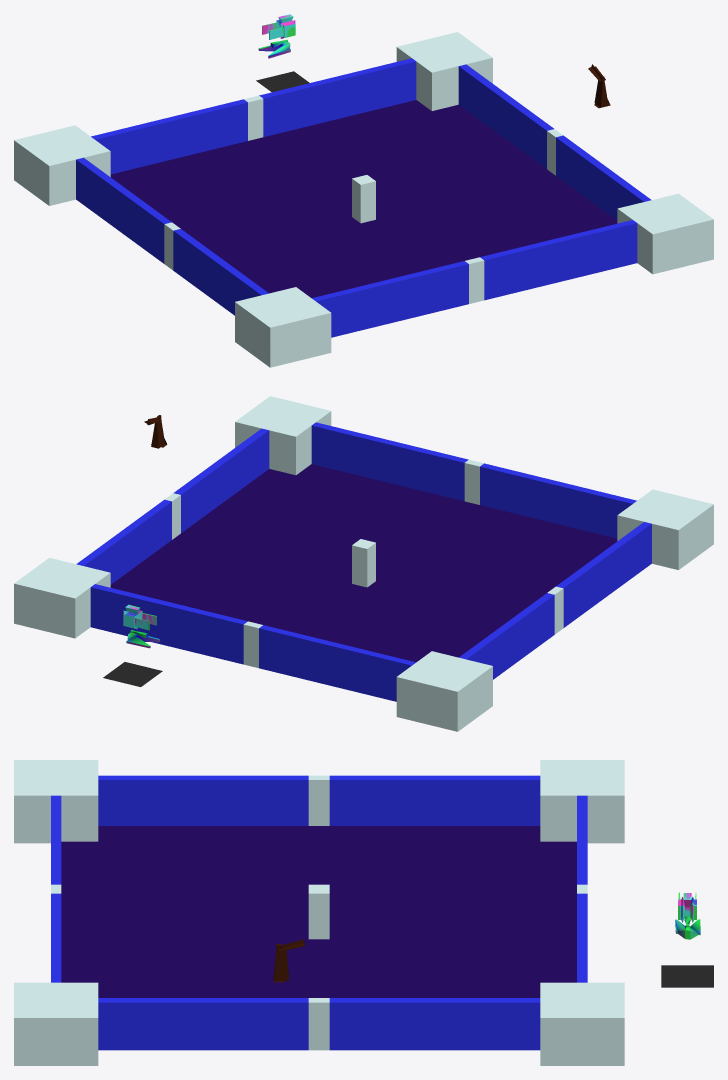
Rendered from world.gltf.
3 renders of one model, top to bottom at view 1: azimuth 30°, elevation 25°; view 2: azimuth 150°, elevation 25°; view 3: azimuth 270°, elevation 25°, orthographic. The views are drawn at different scales.
Parts seen in each view (by area): view 1: Floor, Wall01, Wall04, Wall02, Wall03, CornerPillar02, CornerPillar01, CornerPillar03, CornerPillar04, Wall07, Wall06, Wall08 (+6 smaller); view 2: Floor, Wall01, Wall03, Wall04, Wall02, CornerPillar03, CornerPillar04, CornerPillar02, CornerPillar01, Wall08, Wall05, Wall07 (+6 smaller); view 3: Floor, Wall06, Wall05, Wall07, Wall08, CornerPillar04, CornerPillar01, CornerPillar03, CornerPillar02, CenterPillar, Road, MiddlePillar02 (+6 smaller).
Part boxes in pixels (x1=…): Floor: x1=110, y1=100, x2=617, y2=298; Wall01: x1=480, y1=220, x2=637, y2=300; Wall04: x1=259, y1=58, x2=416, y2=136; Wall02: x1=312, y1=261, x2=468, y2=337; Wall03: x1=91, y1=99, x2=247, y2=174; CornerPillar02: x1=235, y1=287, x2=331, y2=367; CornerPillar01: x1=617, y1=193, x2=713, y2=274; CornerPillar03: x1=14, y1=125, x2=110, y2=205; CornerPillar04: x1=396, y1=32, x2=492, y2=110; Wall07: x1=76, y1=157, x2=171, y2=263; Wall06: x1=458, y1=64, x2=553, y2=168; Wall08: x1=173, y1=229, x2=268, y2=315; Floor: x1=110, y1=464, x2=617, y2=662; Wall01: x1=311, y1=422, x2=468, y2=501; Wall03: x1=259, y1=625, x2=415, y2=701; Wall04: x1=90, y1=584, x2=247, y2=664; Wall02: x1=480, y1=463, x2=636, y2=538; CornerPillar03: x1=396, y1=651, x2=492, y2=731; CornerPillar04: x1=14, y1=558, x2=110, y2=638; CornerPillar02: x1=617, y1=489, x2=713, y2=569; CornerPillar01: x1=235, y1=396, x2=331, y2=475; Wall08: x1=556, y1=522, x2=651, y2=627; Wall05: x1=173, y1=428, x2=269, y2=532; Wall07: x1=459, y1=593, x2=554, y2=679; Floor: x1=61, y1=826, x2=576, y2=997; Wall06: x1=329, y1=998, x2=540, y2=1050; Wall05: x1=98, y1=998, x2=308, y2=1050; Wall07: x1=329, y1=775, x2=540, y2=825; Wall08: x1=98, y1=775, x2=308, y2=825; CornerPillar04: x1=540, y1=982, x2=624, y2=1065; CornerPillar01: x1=14, y1=982, x2=98, y2=1065; CornerPillar03: x1=540, y1=760, x2=624, y2=843; CornerPillar02: x1=14, y1=760, x2=98, y2=843; CenterPillar: x1=308, y1=884, x2=329, y2=939; Road: x1=661, y1=965, x2=713, y2=987; MiddlePillar02: x1=308, y1=998, x2=329, y2=1050.
Bounding box in the file's own units: 117 × 26.87 × 133.
22 materials, 22 textured.
